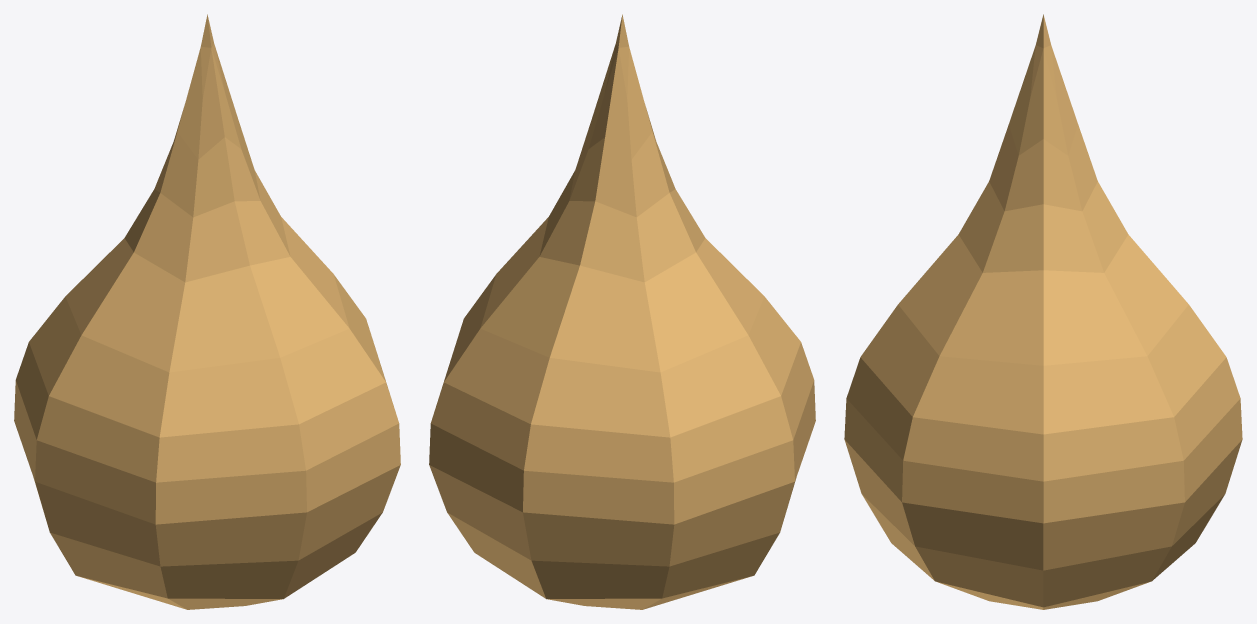
File: projectile.fbx
3 views of the same model, side by side, from view 1: azimuth 30°, elevation 25°; view 2: azimuth 150°, elevation 25°; view 3: azimuth 270°, elevation 25° (orthographic).
Parts seen in each view (by area): view 1: Projectile; view 2: Projectile; view 3: Projectile.
Part boxes in pixels (x1,y1,x2,y2): Projectile: [14, 14, 400, 609]; Projectile: [429, 14, 815, 609]; Projectile: [844, 14, 1242, 609].
Bounding box in the file's own units: 12.86 × 20.97 × 12.86.
